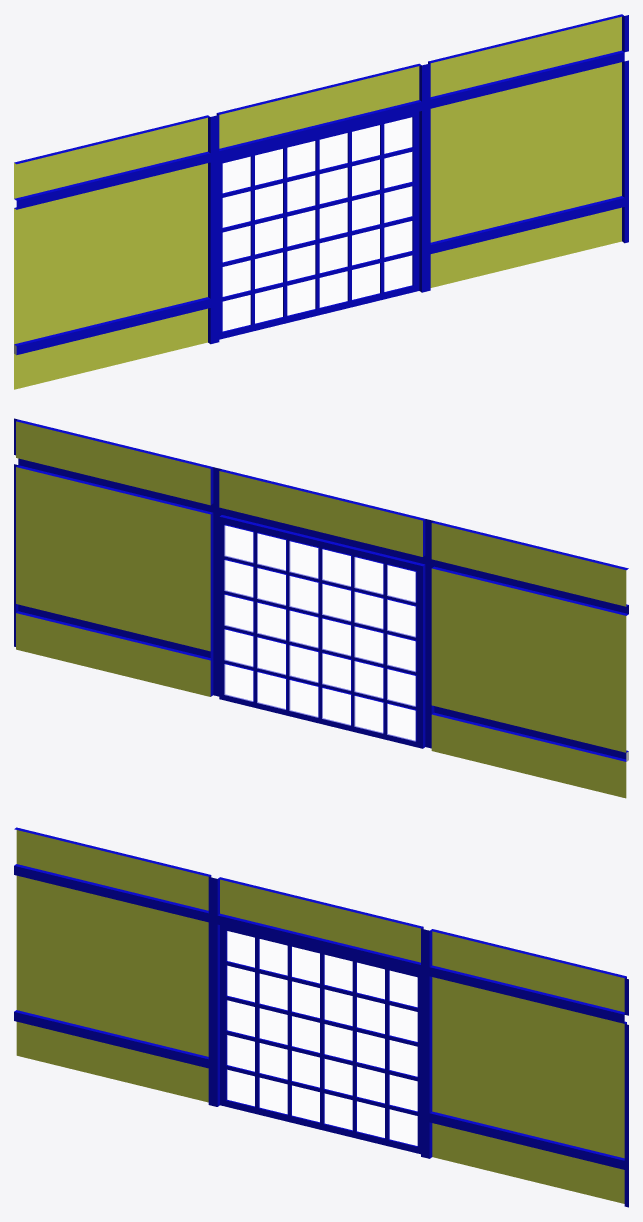
File: MSH_A_Wall_North.glb
3 views of the same model, one above another, from view 1: azimuth 30°, elevation 25°; view 2: azimuth 150°, elevation 25°; view 3: azimuth 330°, elevation 25° (orthographic).
Visible parts, largest first — view 1: Wall Room A-North; view 2: Wall Room A-North; view 3: Wall Room A-North.
Part boxes in pixels (bbox=[...]): Wall Room A-North: bbox=[14, 14, 628, 389]; Wall Room A-North: bbox=[14, 418, 628, 798]; Wall Room A-North: bbox=[14, 827, 628, 1207].
Bounding box in the file's own units: 7.05 × 2.5 × 0.07.
